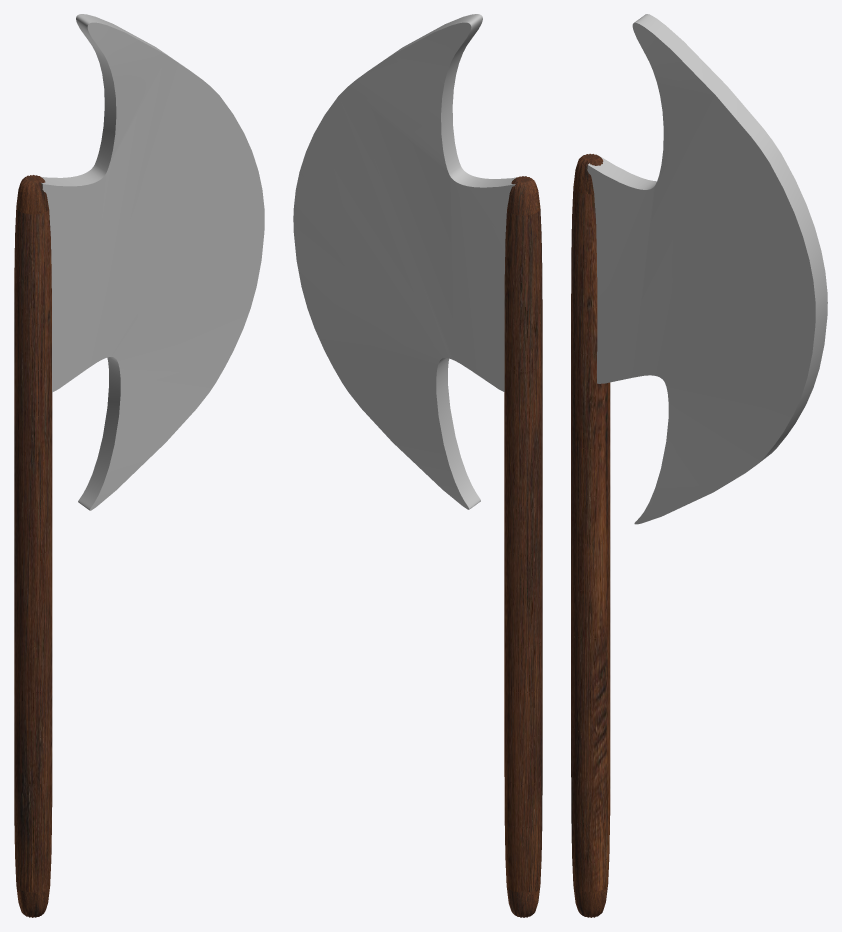
The model's file is ironAxe.fbx.
The picture shows the model from 3 angles, left to right: view 1: azimuth 30°, elevation 25°; view 2: azimuth 150°, elevation 25°; view 3: azimuth 330°, elevation 25°; orthographic projection. The views are drawn at different scales.
Visible parts, largest first — view 1: Extrude, Cylinder; view 2: Extrude, Cylinder; view 3: Extrude, Cylinder.
Part boxes in pixels (box(x1,y1,x2,y2)): Extrude: box(41, 14, 264, 510); Cylinder: box(14, 175, 52, 917); Extrude: box(293, 14, 526, 509); Cylinder: box(504, 176, 542, 917); Extrude: box(587, 14, 827, 524); Cylinder: box(571, 153, 610, 917).
Size of the model in its own units: 120 by 418 by 16.36.
2 materials, 1 textured.
